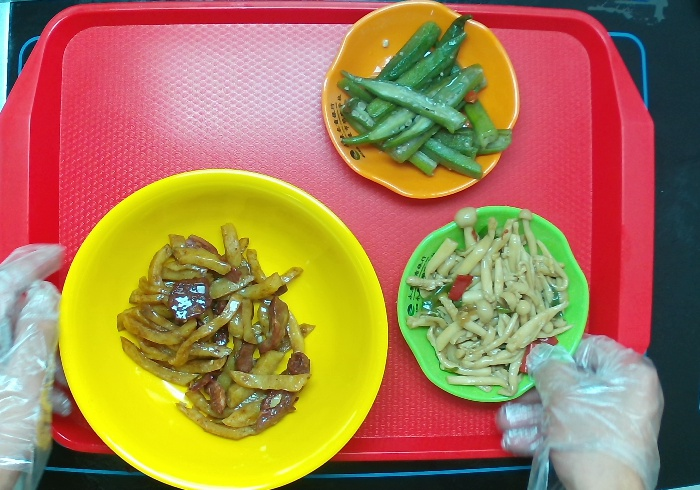YKMZ-Huang_Se_Tang_Wan: (57, 169, 389, 490)
YKMZ-Ju_Se_Ao_Bian_Wan: (319, 1, 520, 204)
YKMZ-Lv_Se_Ao_Bian_Wan: (395, 208, 588, 406)
